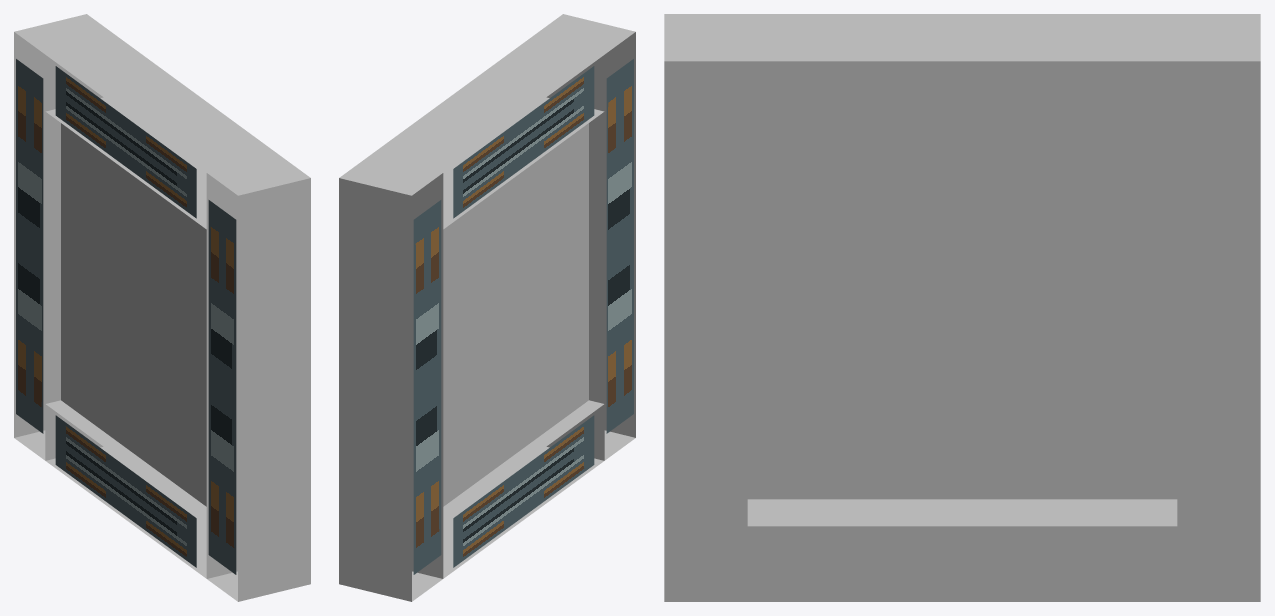
The model's file is turbine_window_unformed_west.obj.
The picture shows the model from 3 angles, left to right: view 1: azimuth 30°, elevation 25°; view 2: azimuth 150°, elevation 25°; view 3: azimuth 270°, elevation 25°; orthographic projection. The views are drawn at different scales.
Visible parts, largest first — view 1: turbine_window_unformed_west; view 2: turbine_window_unformed_west; view 3: turbine_window_unformed_west.
Boxes of the visible parts, x1=… form: turbine_window_unformed_west: x1=14, y1=14, x2=310, y2=601; turbine_window_unformed_west: x1=339, y1=14, x2=635, y2=601; turbine_window_unformed_west: x1=664, y1=14, x2=1260, y2=601.
Size of the model in its own units: 0.1875 by 1 by 1.
